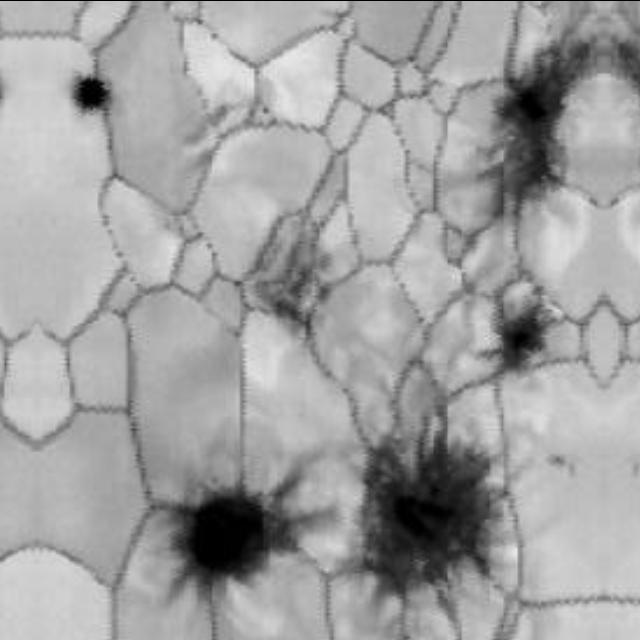good_void: (321, 401, 515, 609), (474, 23, 604, 221), (153, 469, 336, 605), (471, 284, 562, 375), (255, 230, 329, 337), (67, 72, 112, 113), (545, 452, 564, 464), (261, 104, 270, 114)
